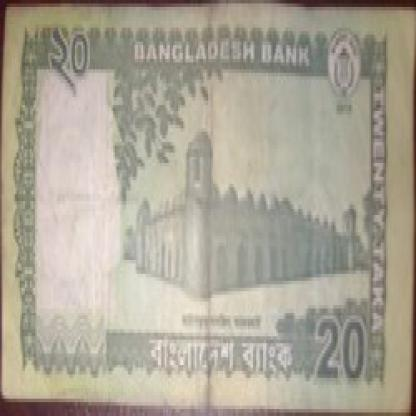Twenty: (311, 315, 373, 392), (48, 21, 100, 94)
